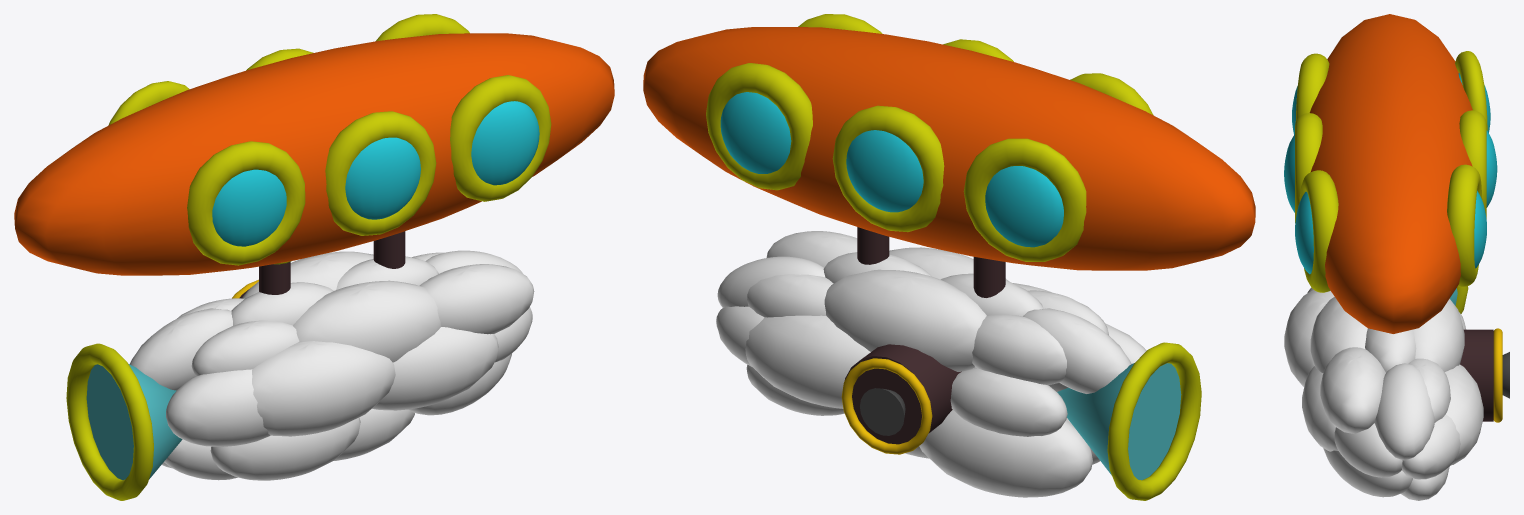
The model's file is Nave.fbx.
3 renders of one model, left to right at view 1: azimuth 30°, elevation 25°; view 2: azimuth 150°, elevation 25°; view 3: azimuth 270°, elevation 25°, orthographic. The views are drawn at different scales.
Parts seen in each view (by area): view 1: pSphere4, nurbsToPoly27, nurbsToPoly18, pTorus2, pTorus1, nurbsToPoly4, pTorus4, nurbsToPoly6, nurbsToPoly19, pTorus3, pCone1, nurbsToPoly3 (+17 smaller); view 2: pSphere4, nurbsToPoly20, nurbsToPoly10, nurbsToPoly13, pCone1, pTorus7, pTorus1, pTorus6, pTorus5, nurbsToPoly15, pCylinder4, nurbsToPoly23 (+20 smaller); view 3: pSphere4, nurbsToPoly19, pSphere3, pTorus5, pTorus3, nurbsToPoly18, nurbsToPoly20, nurbsToPoly27, nurbsToPoly13, pSphere2, nurbsToPoly14, pCylinder4 (+15 smaller).
Part boxes in pixels (<box>): pSphere4: <box>14,33,614,275</box>; nurbsToPoly27: <box>252,341,395,436</box>; nurbsToPoly18: <box>293,280,441,362</box>; pTorus2: <box>187,141,305,265</box>; pTorus1: <box>66,343,153,500</box>; nurbsToPoly4: <box>372,327,498,410</box>; pTorus4: <box>325,111,436,235</box>; nurbsToPoly6: <box>166,369,270,446</box>; nurbsToPoly19: <box>419,264,534,334</box>; pTorus3: <box>450,75,551,201</box>; pCone1: <box>86,364,182,479</box>; nurbsToPoly3: <box>210,417,360,480</box>; pSphere4: <box>643,27,1255,270</box>; nurbsToPoly20: <box>824,269,986,371</box>; nurbsToPoly10: <box>919,410,1092,497</box>; nurbsToPoly13: <box>745,315,870,408</box>; pCone1: <box>1057,363,1181,480</box>; pTorus7: <box>963,138,1086,261</box>; pTorus1: <box>1107,342,1201,500</box>; pTorus6: <box>832,105,944,232</box>; pTorus5: <box>706,63,812,190</box>; nurbsToPoly15: <box>950,368,1067,436</box>; pCylinder4: <box>844,344,961,444</box>; nurbsToPoly23: <box>972,314,1066,385</box>; pSphere4: <box>1309,14,1472,333</box>; nurbsToPoly19: <box>1320,347,1385,433</box>; pSphere3: <box>1375,363,1434,460</box>; pTorus5: <box>1447,164,1482,286</box>; pTorus3: <box>1299,170,1338,292</box>; nurbsToPoly18: <box>1310,297,1367,372</box>; nurbsToPoly20: <box>1413,298,1464,372</box>; nurbsToPoly27: <box>1284,289,1334,386</box>; nurbsToPoly13: <box>1445,364,1483,465</box>; pSphere2: <box>1334,423,1402,477</box>; nurbsToPoly14: <box>1401,414,1460,479</box>; pCylinder4: <box>1460,329,1493,421</box>.
Size of what is drawn, in the model's own units: 27.27 by 17.2 by 9.51.
